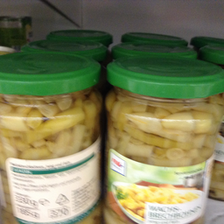beans: (108, 57, 217, 224), (3, 53, 104, 224)
